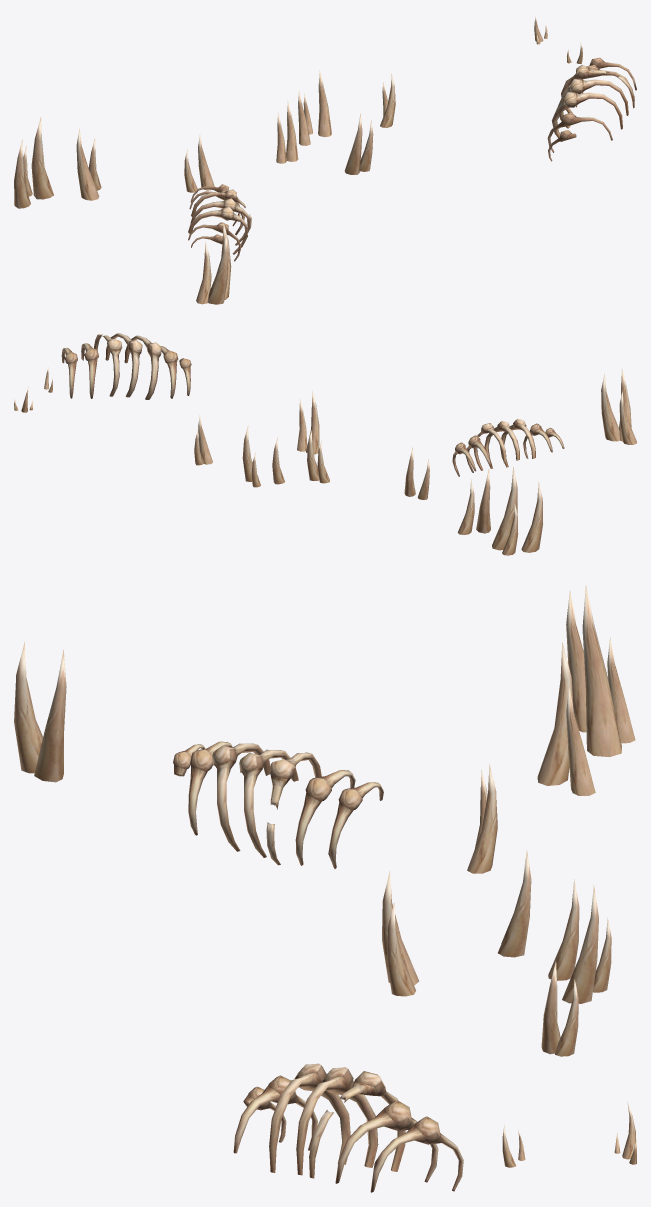
The model's file is area_09_13.fbx.
The picture shows the model from 3 angles, top to bottom: view 1: azimuth 30°, elevation 25°; view 2: azimuth 150°, elevation 25°; view 3: azimuth 270°, elevation 25°; orthographic projection. The views are drawn at different scales.
Parts seen in each view (by area): view 1: area_09_13; view 2: area_09_13; view 3: area_09_13.
Part boxes in pixels (x1,y1,x2,y2): area_09_13: (14, 15, 636, 304); area_09_13: (14, 333, 636, 555); area_09_13: (14, 585, 636, 1192).
Size of the model in its own units: 138 by 22.01 by 70.35.
